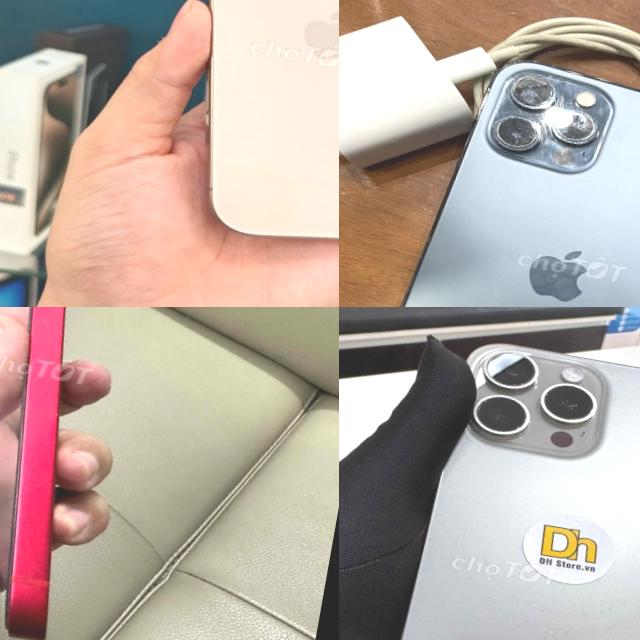scratch: (481, 47, 619, 186), (428, 497, 516, 627), (509, 611, 640, 640), (590, 355, 640, 400)
